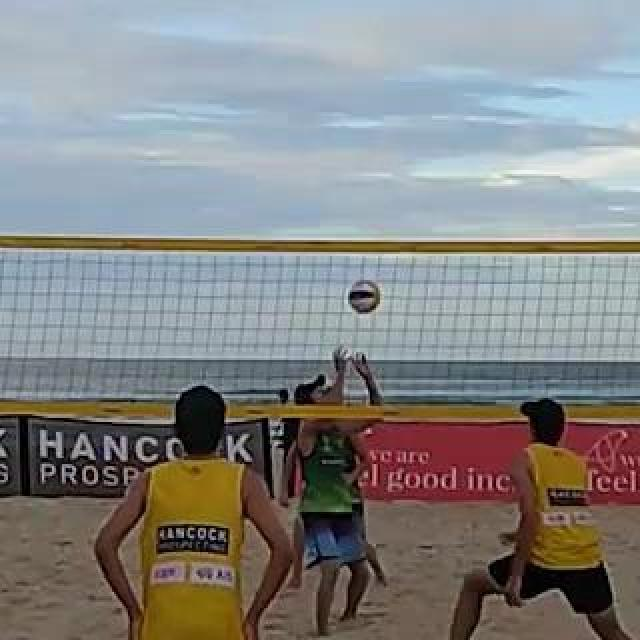volleyball: (349, 282, 379, 312)
